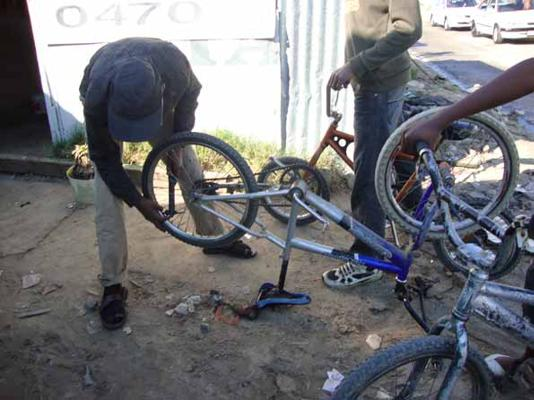person: (74, 31, 259, 334)
